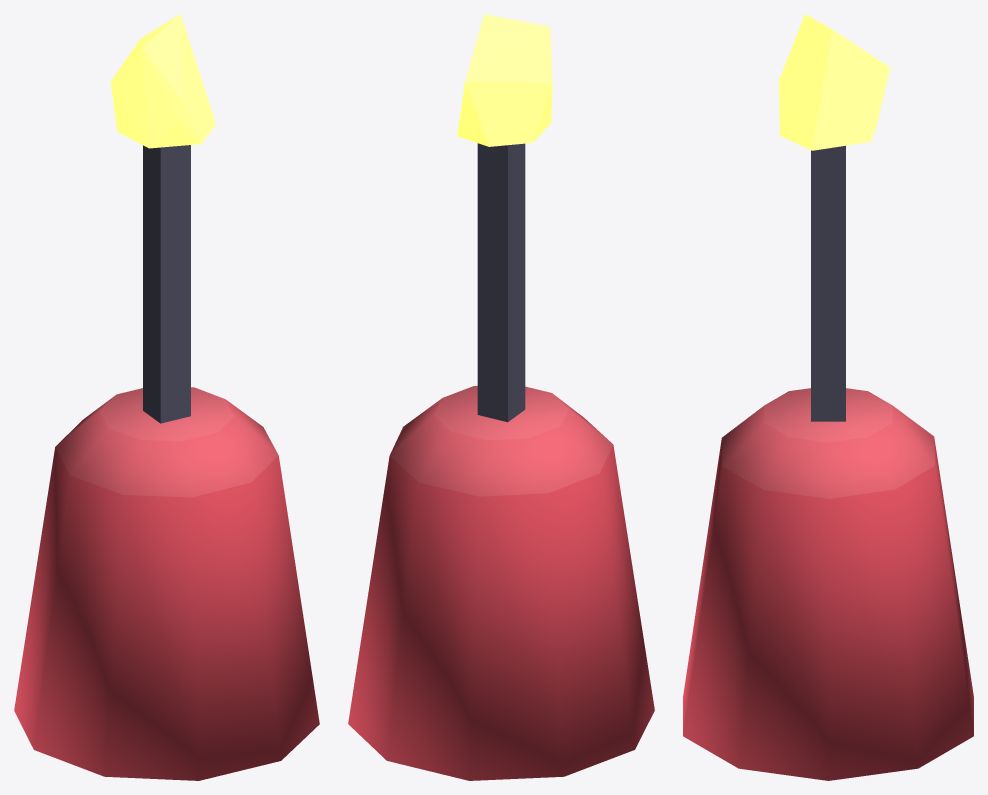
Rendered from Buoy.glb.
The picture shows the model from 3 angles, left to right: view 1: azimuth 30°, elevation 25°; view 2: azimuth 150°, elevation 25°; view 3: azimuth 270°, elevation 25°; orthographic projection.
Visible parts, largest first — view 1: Buoy, Buoy_Glow_beacon; view 2: Buoy, Buoy_Glow_beacon; view 3: Buoy, Buoy_Glow_beacon.
Boxes of the visible parts, bbox=[...] form: Buoy: bbox=[14, 145, 319, 780]; Buoy_Glow_beacon: bbox=[110, 14, 216, 148]; Buoy: bbox=[348, 143, 654, 780]; Buoy_Glow_beacon: bbox=[457, 14, 552, 146]; Buoy: bbox=[683, 145, 973, 780]; Buoy_Glow_beacon: bbox=[779, 14, 890, 150].
Size of the model in its own units: 2.2 by 5.51 by 2.09.
Materials: 2 (1 with a texture image).
